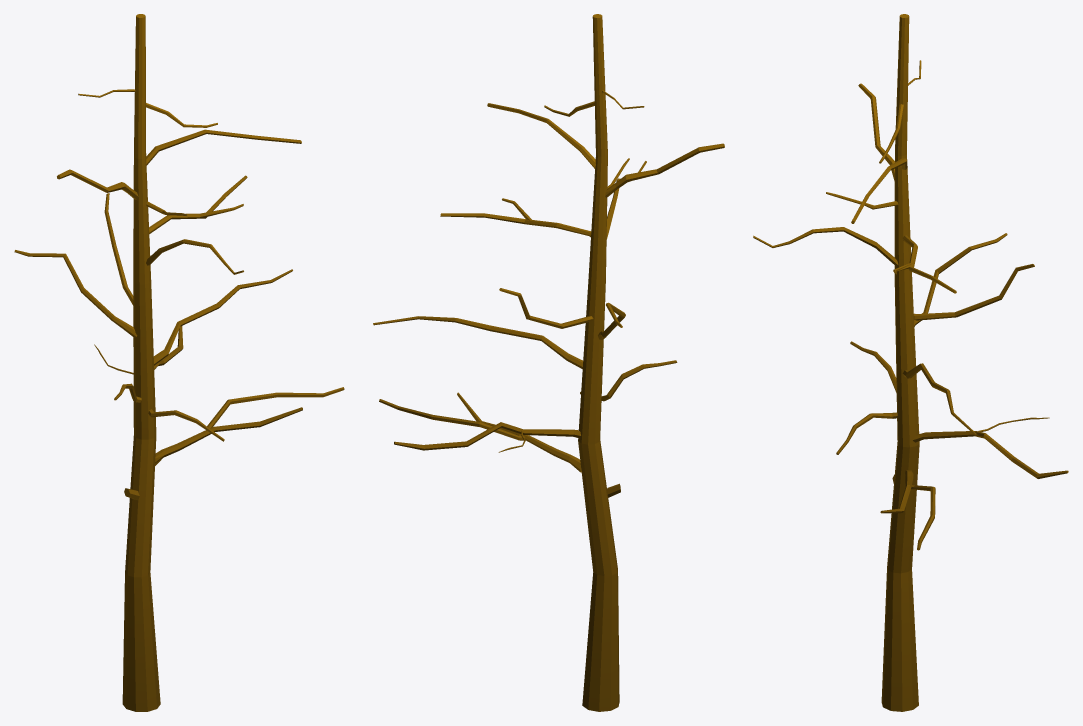
3 renders of one model, left to right at view 1: azimuth 30°, elevation 25°; view 2: azimuth 150°, elevation 25°; view 3: azimuth 270°, elevation 25°, orthographic.
Visible parts, largest first — view 1: coniferous_trees_18; view 2: coniferous_trees_18; view 3: coniferous_trees_18.
Part boxes in pixels (x1=…): coniferous_trees_18: x1=14, y1=14, x2=344, y2=711; coniferous_trees_18: x1=373, y1=14, x2=724, y2=711; coniferous_trees_18: x1=753, y1=14, x2=1068, y2=711.
Size of the model in its own units: 1.6 by 3.34 by 1.39.
